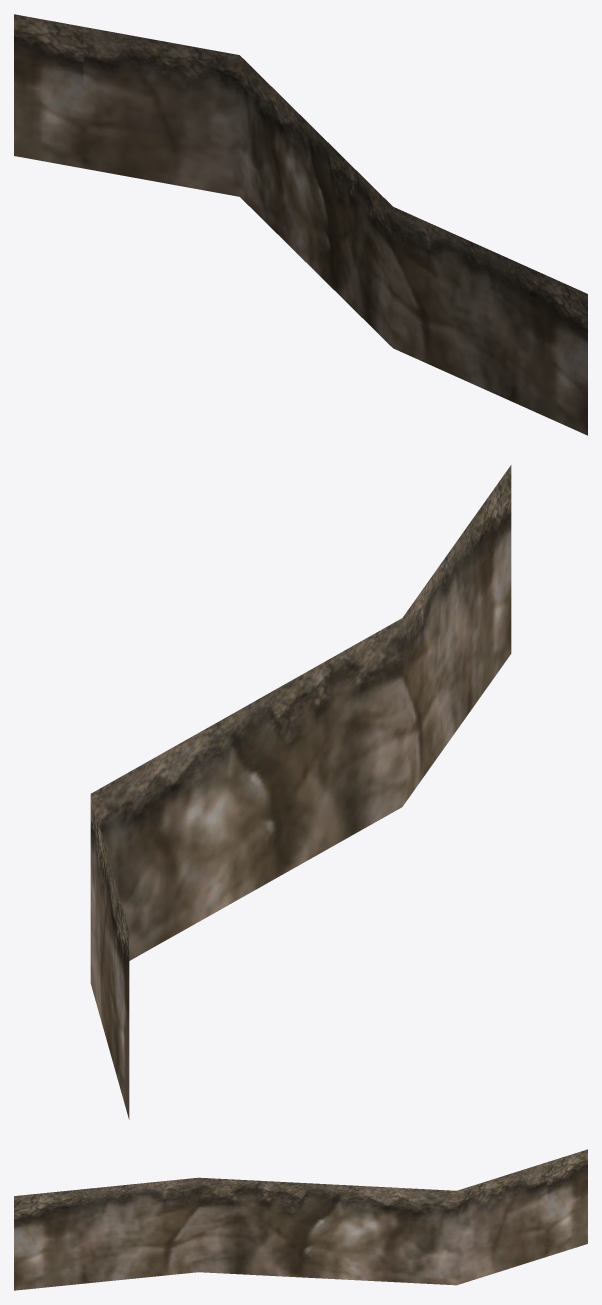
File: OVERHILL_A_01_LINE41.fbx
3 views of the same model, one above another, from view 1: azimuth 30°, elevation 25°; view 2: azimuth 150°, elevation 25°; view 3: azimuth 270°, elevation 25° (orthographic). The views are drawn at different scales.
Visible parts, largest first — view 1: OVERHILL_A_01_LINE41; view 2: OVERHILL_A_01_LINE41; view 3: OVERHILL_A_01_LINE41.
Boxes of the visible parts, x1,y1,x2,y2 form: OVERHILL_A_01_LINE41: (14,14,587,435); OVERHILL_A_01_LINE41: (90,465,511,1119); OVERHILL_A_01_LINE41: (14,1149,587,1290).
Bounding box in the file's own units: 3450 × 3250 × 17880.
1 material, 1 textured.
